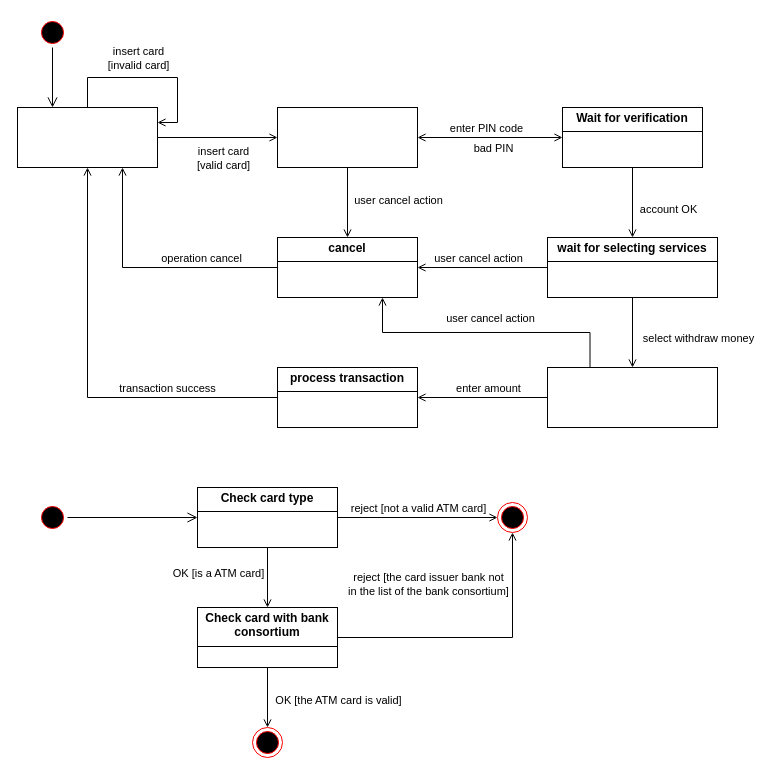
Image size: 771x775. Some labels were removed from this diagram. The centre of each missing label's shape, as x and y in pixels:
Main screen: the point at 87,137
Wait for entering amount: the point at 632,397
wait for PIN: the point at 347,137
